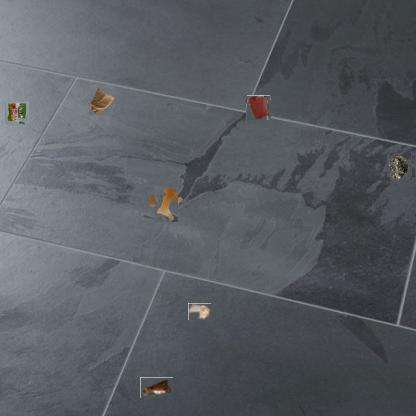dirty: (88, 86, 116, 114), (140, 377, 173, 398), (388, 154, 414, 179), (5, 101, 29, 124), (188, 303, 211, 320)
liquid: (152, 189, 182, 219), (246, 96, 271, 120)
